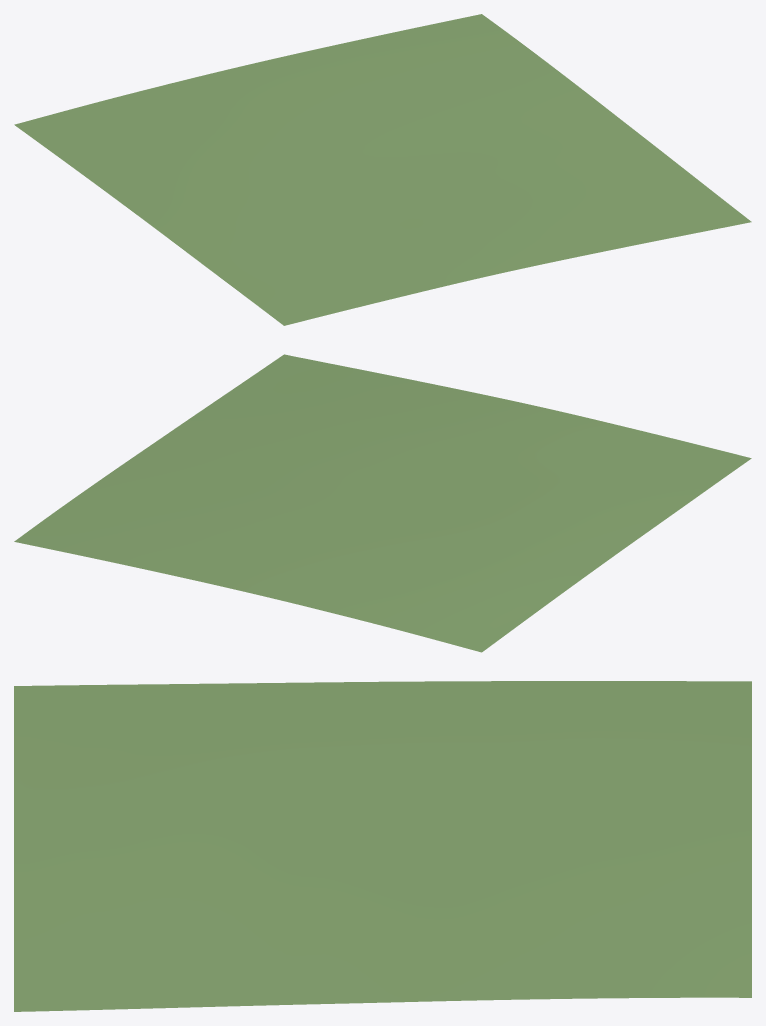
The model's file is floor_001_chunk_x+01_z+12_lod0.glb.
3 renders of one model, top to bottom at view 1: azimuth 30°, elevation 25°; view 2: azimuth 150°, elevation 25°; view 3: azimuth 270°, elevation 25°, orthographic. The views are drawn at different scales.
Parts seen in each view (by area): view 1: floor_001_chunk_x+01_z+12_lod0; view 2: floor_001_chunk_x+01_z+12_lod0; view 3: floor_001_chunk_x+01_z+12_lod0.
Boxes of the visible parts, box(x1,y1,x2,y2) form: floor_001_chunk_x+01_z+12_lod0: box(14, 14, 751, 325); floor_001_chunk_x+01_z+12_lod0: box(14, 354, 751, 652); floor_001_chunk_x+01_z+12_lod0: box(14, 681, 751, 1011).
Size of the model in its own units: 256 by 8.8 by 256.
